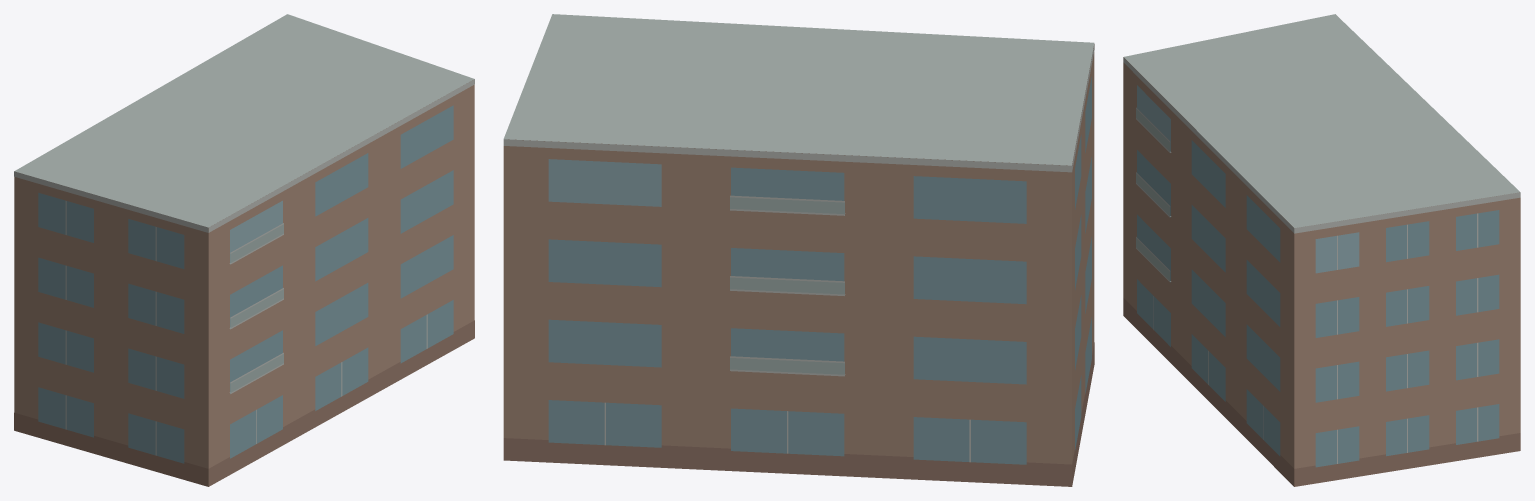
Rendered from survey-upis-32750429.glb.
The picture shows the model from 3 angles, left to right: view 1: azimuth 30°, elevation 25°; view 2: azimuth 150°, elevation 25°; view 3: azimuth 270°, elevation 25°; orthographic projection. The views are drawn at different scales.
Visible parts, largest first — view 1: survey-upis-32750429.tmp; view 2: survey-upis-32750429.tmp; view 3: survey-upis-32750429.tmp.
Boxes of the visible parts, x1=… form: survey-upis-32750429.tmp: x1=14, y1=14, x2=474, y2=486; survey-upis-32750429.tmp: x1=503, y1=14, x2=1094, y2=486; survey-upis-32750429.tmp: x1=1123, y1=14, x2=1520, y2=486.
Size of the model in its own units: 20.79 by 11.7 by 16.29.
